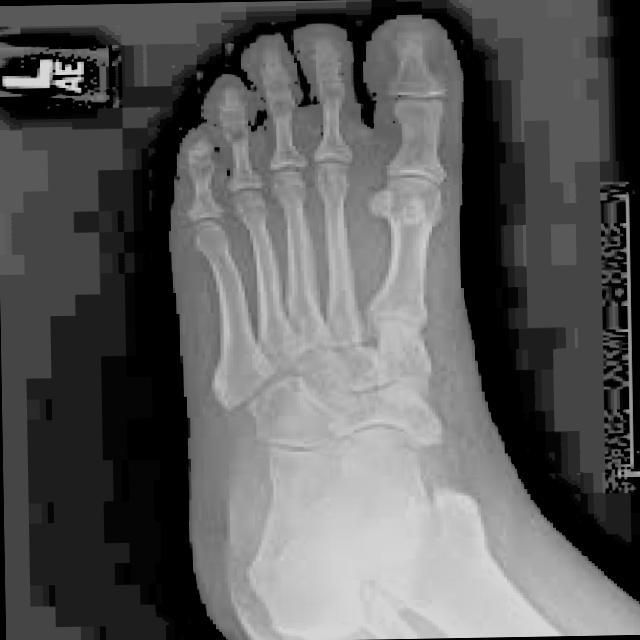Fracture Dislocation: (401, 422, 477, 534)
